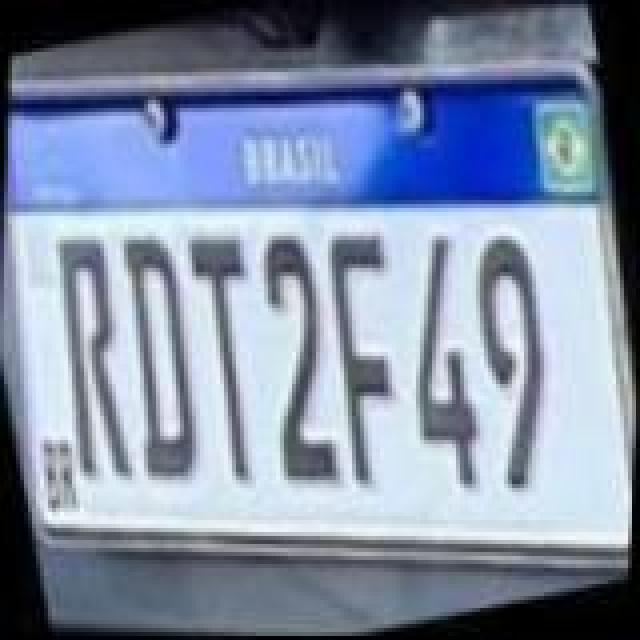2: (228, 222, 356, 490)
4: (374, 228, 498, 496)
9: (452, 226, 580, 494)
D: (90, 226, 222, 486)
F: (296, 224, 432, 492)
R: (28, 222, 156, 486)
T: (172, 224, 292, 488)
